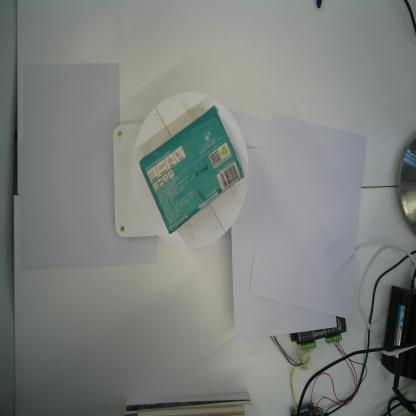Tissue: (139, 104, 246, 235)
